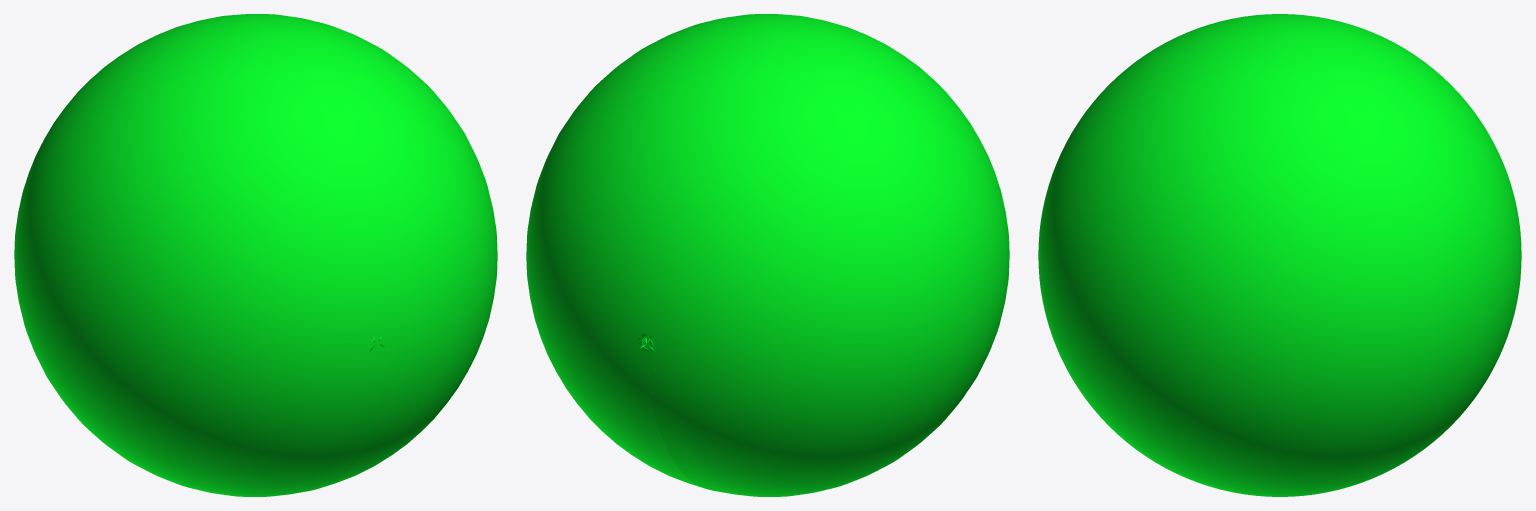
Rendered from life.obj.
The picture shows the model from 3 angles, left to right: view 1: azimuth 30°, elevation 25°; view 2: azimuth 150°, elevation 25°; view 3: azimuth 270°, elevation 25°; orthographic projection.
Parts seen in each view (by area): view 1: Plane; view 2: Plane; view 3: Plane.
Boxes of the visible parts, bbox=[...] form: Plane: bbox=[14, 14, 497, 496]; Plane: bbox=[526, 14, 1009, 496]; Plane: bbox=[1038, 14, 1521, 496].
Bounding box in the file's own units: 5.21 × 5.21 × 5.21.
1 material, 1 textured.
